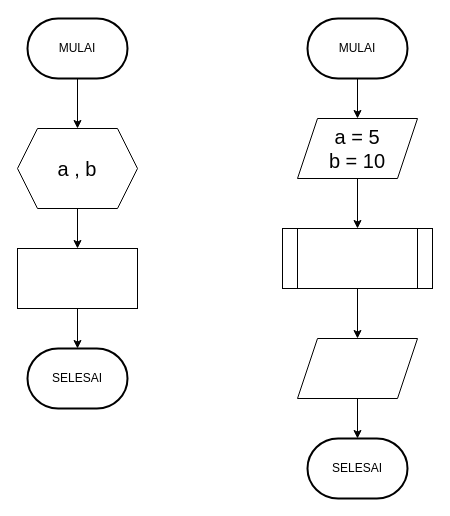
Image size: 450x516. Some labels were removed from this diagram. The shapes that lost their labels are listed below. From the top down, each one's centre as x and y in pixels, then its label:
(77,278): a + b
(357,258): c = jumlah(a,b)
(357,368): print c
